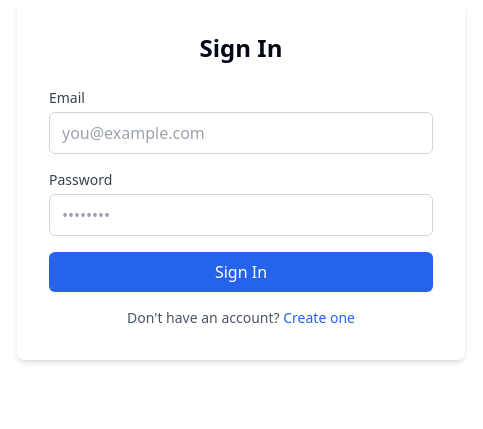
Test: LoginForm › validates email format
The image size is (483, 429).
In the field labelled "Email": (241, 133) 49,112 -> 433,154, type "invalid-email"
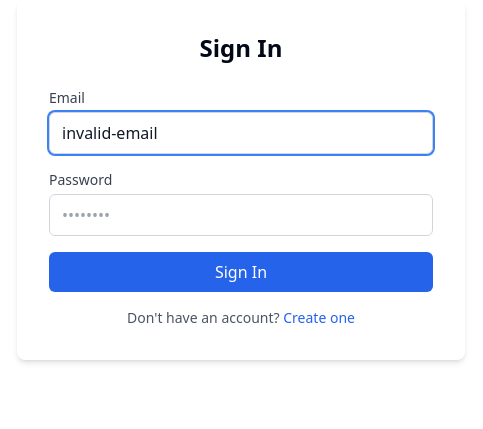
Click the button "Sign In": (241, 272) 49,252 -> 433,292
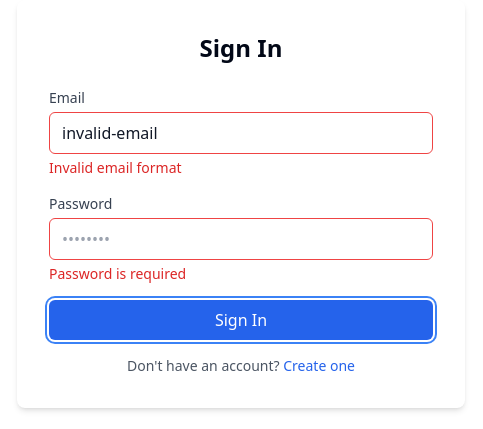
Result: the text "Invalid email format" is shown at 49,158 -> 182,177
